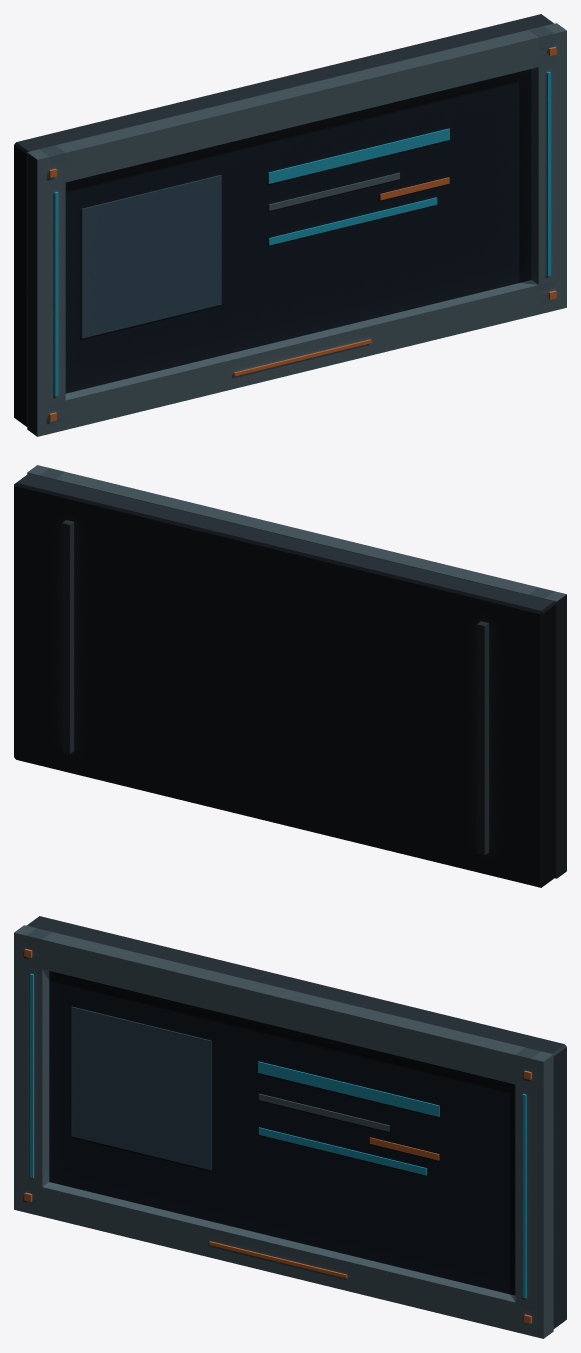
File: 0-20261016-1900-ev036-r06-stage-devlogwallframe_baked.glb
3 renders of one model, top to bottom at view 1: azimuth 30°, elevation 25°; view 2: azimuth 150°, elevation 25°; view 3: azimuth 330°, elevation 25°, orthographic.
Visible parts, largest first — view 1: SW_Stage_DevlogWallFrame; view 2: SW_Stage_DevlogWallFrame; view 3: SW_Stage_DevlogWallFrame.
Part boxes in pixels (x1=…): SW_Stage_DevlogWallFrame: x1=14, y1=14, x2=566, y2=436; SW_Stage_DevlogWallFrame: x1=14, y1=465, x2=566, y2=887; SW_Stage_DevlogWallFrame: x1=14, y1=916, x2=566, y2=1338.
Size of the model in its own units: 6 by 3 by 0.5905.
Materials: 1 (1 with a texture image).
